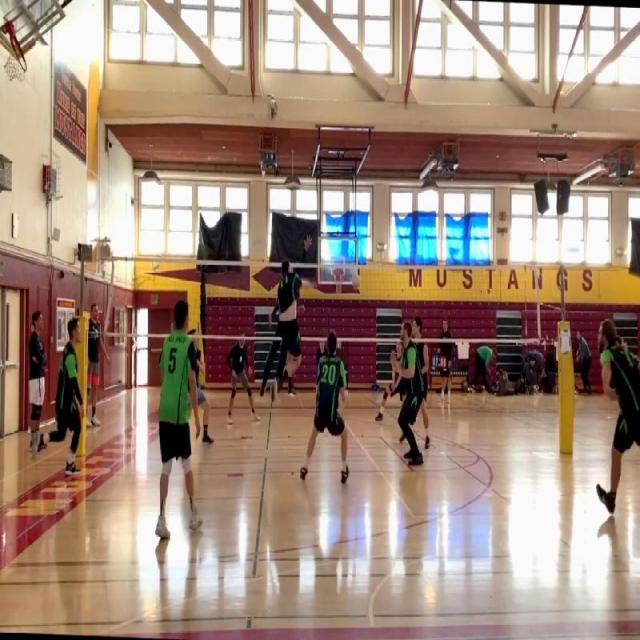volleyball: (352, 274, 360, 288)
